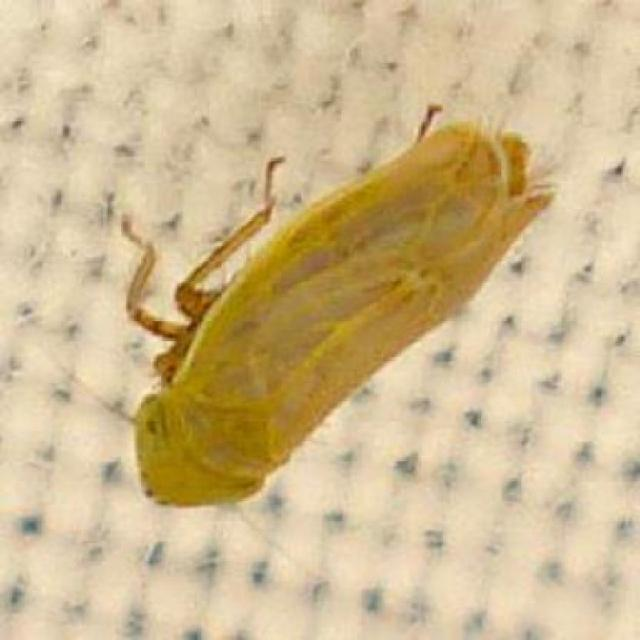green-leafhopper: (116, 112, 546, 523)
